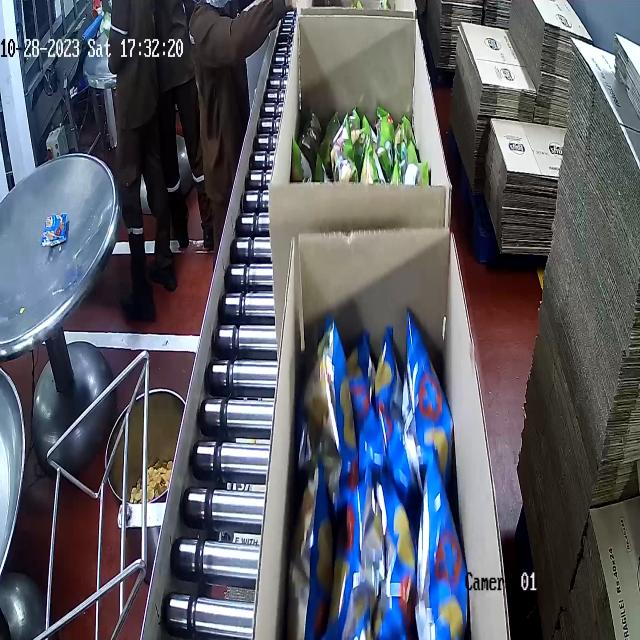PAPRIKA: (294, 306, 455, 640)
